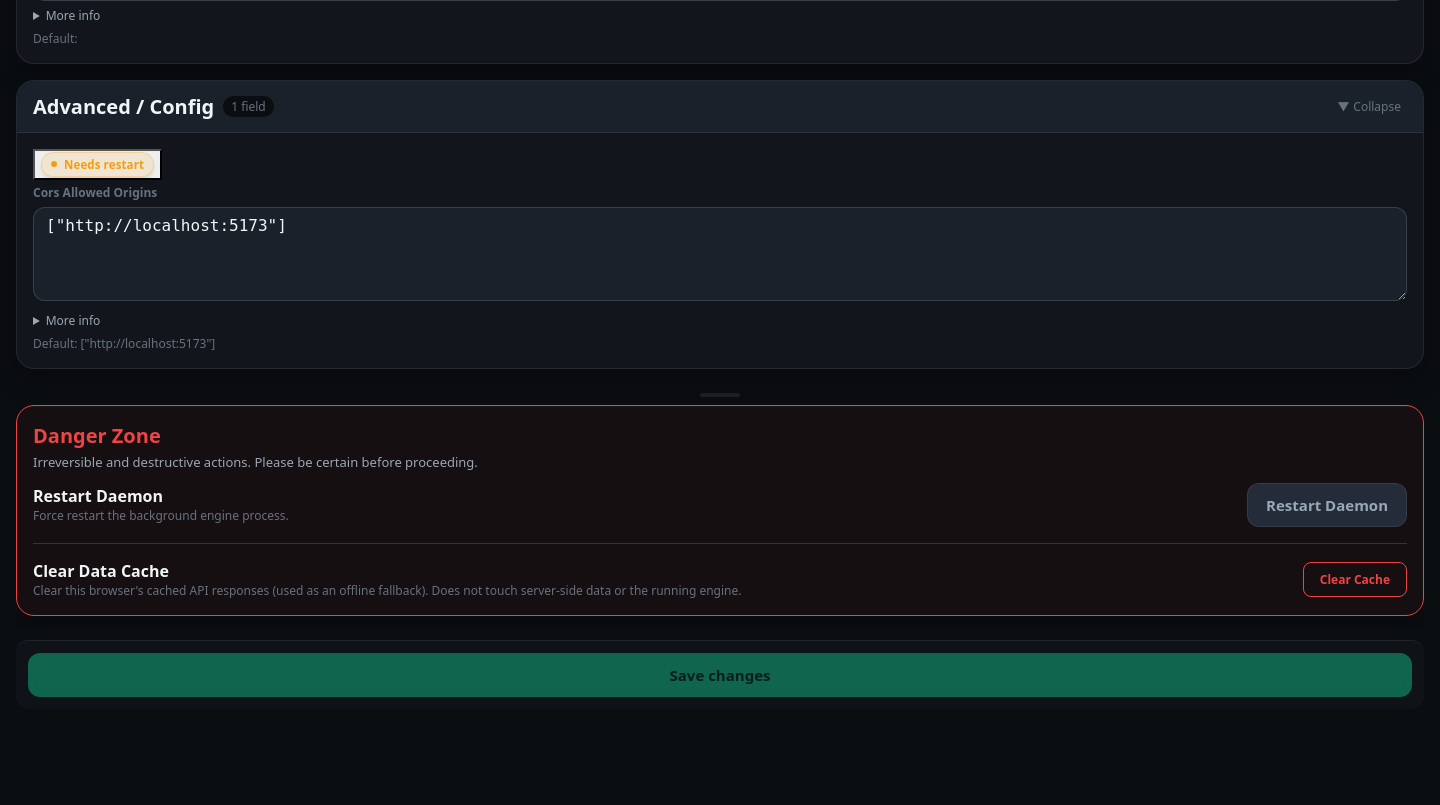
Test: SettingsManager screen › Danger Zone — Clear Data Cache › Cancel leaves the cache untouched and closes the dialog with no action taken
(page scrolled)
Click the button with test id "clear-cache-button": (1355, 579) [1303, 562, 1407, 597]
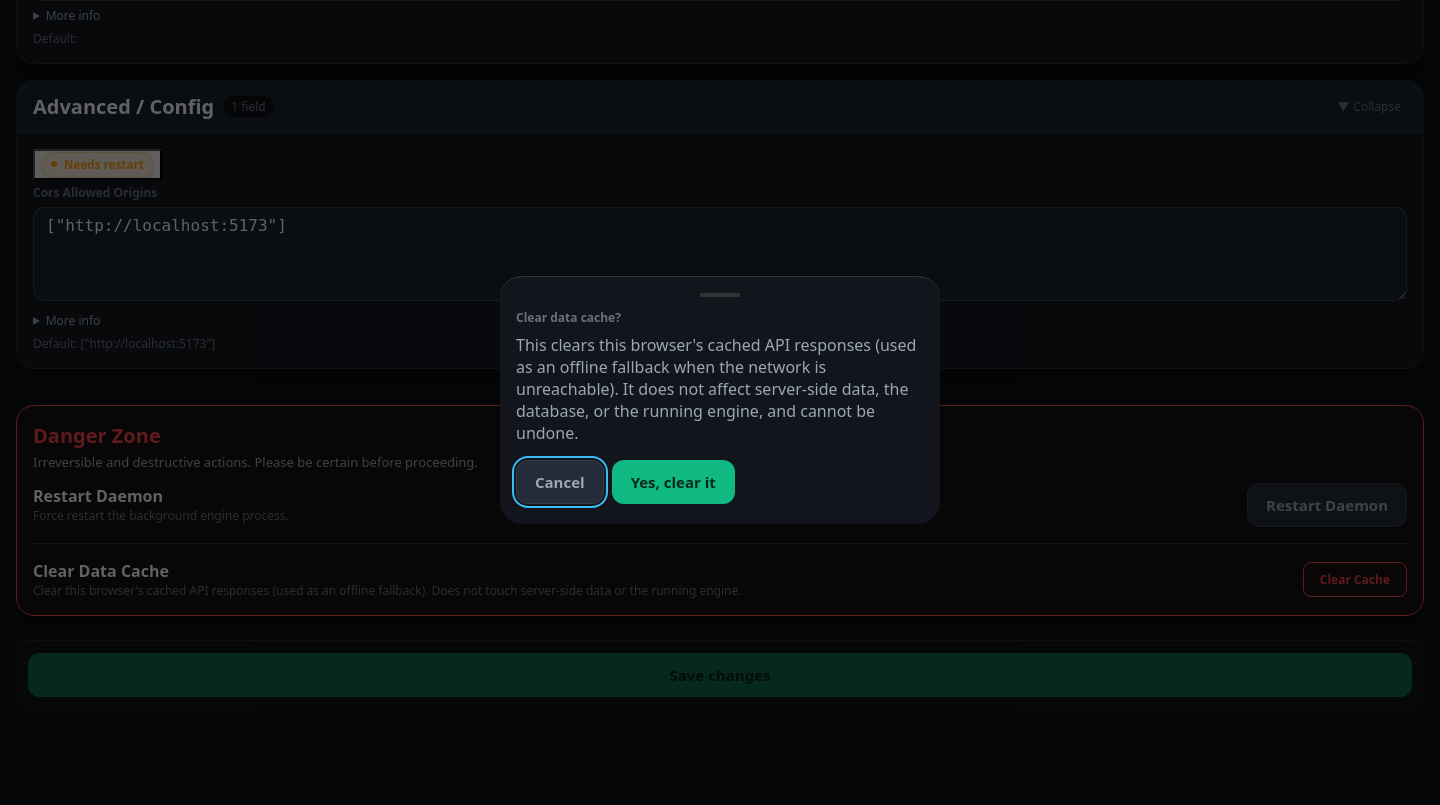
Expected: the element with test id "clear-cache-confirm" is shown, [516, 309, 924, 504]
Click the button with test id "clear-cache-cancel": (560, 482) [516, 460, 604, 504]
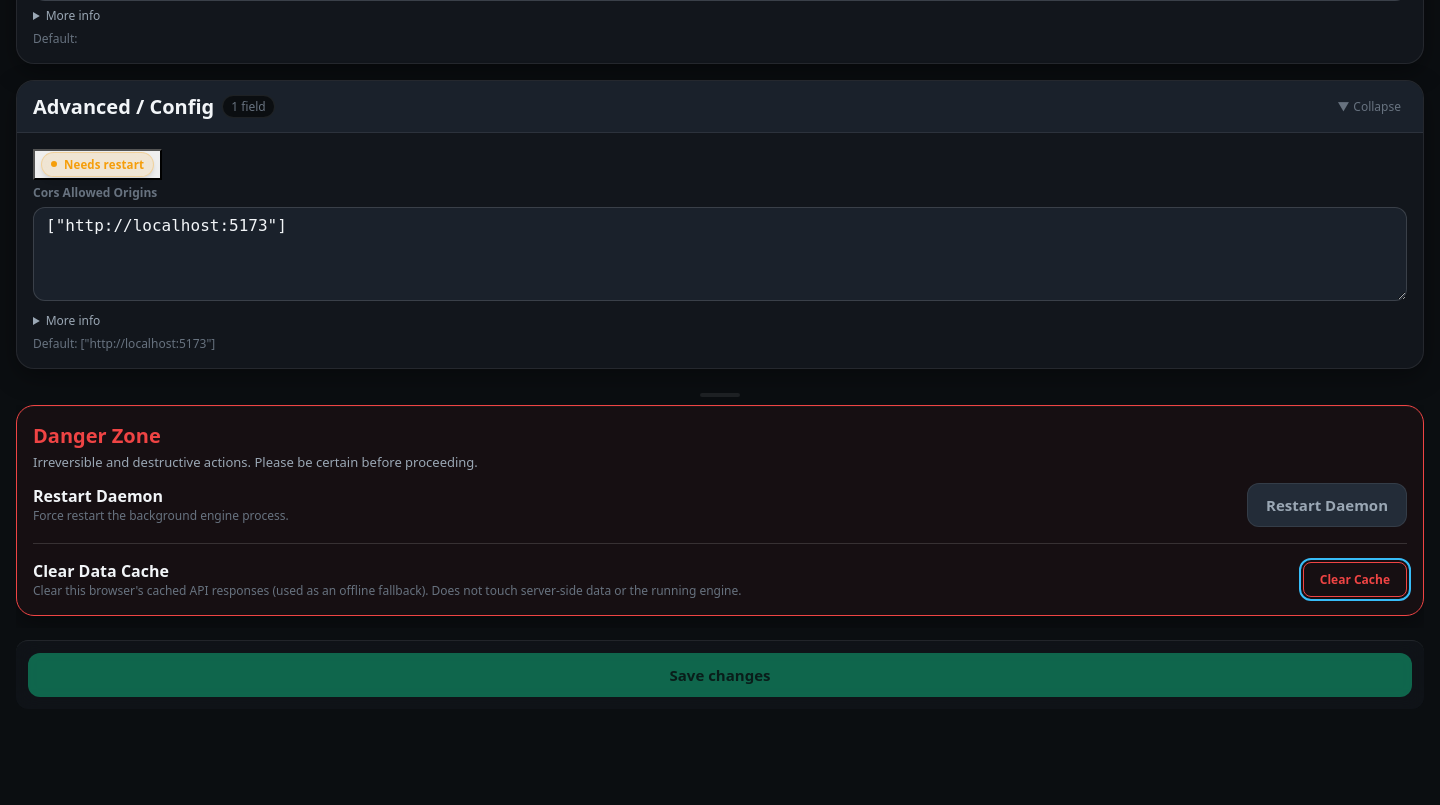
Expected: the element with test id "clear-cache-confirm" is gone
